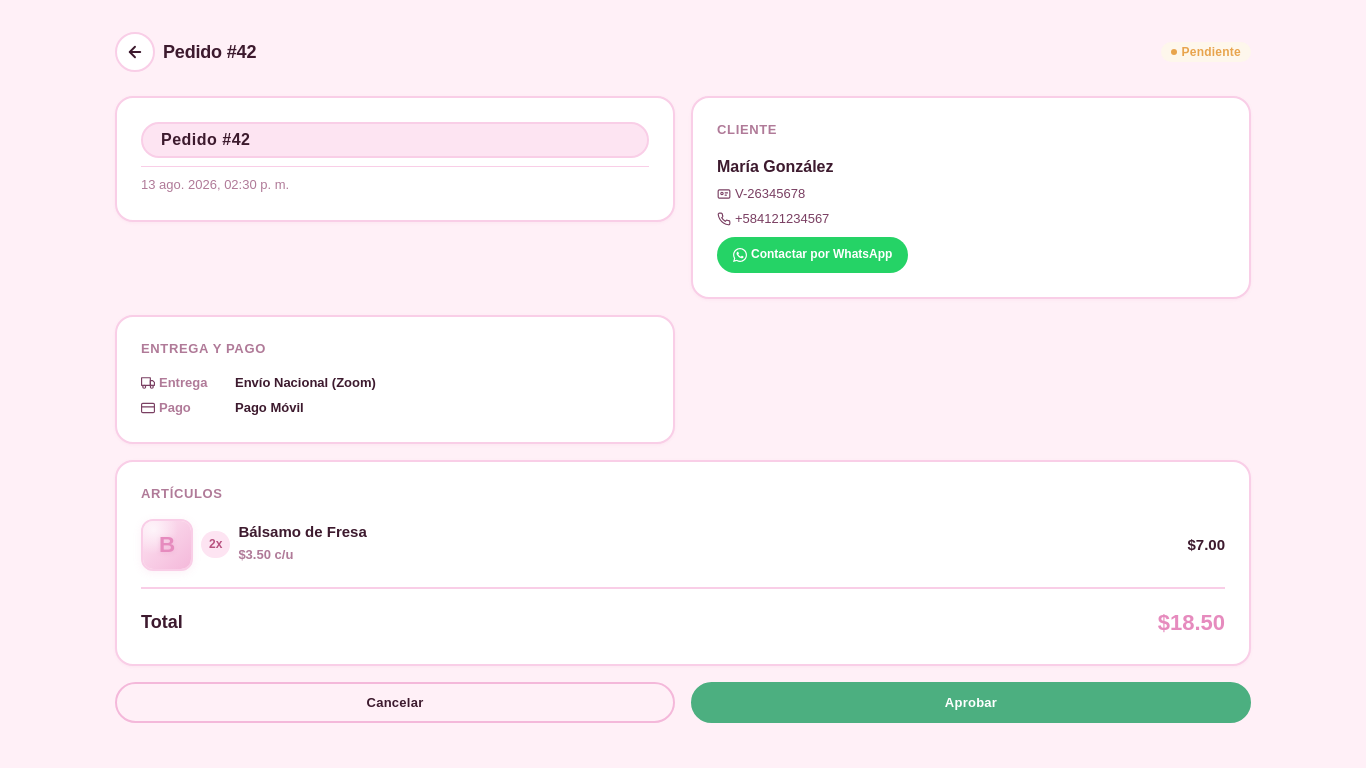
OrderDetailPage — aprobar / cancelar vía API › aprueba el pedido y actualiza el badge tras refrescar
The image size is (1366, 768).
Click the button "Aprobar": (971, 702) [691,682,1251,723]
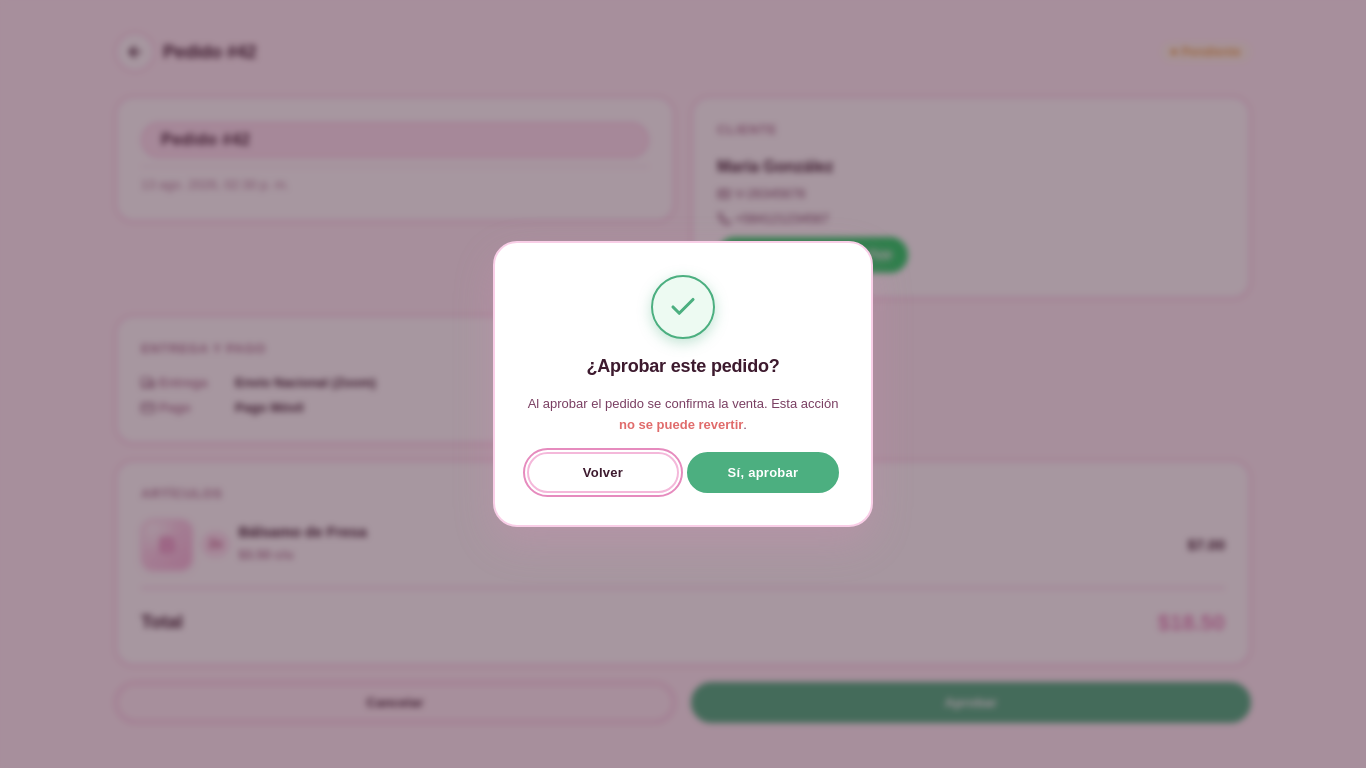
Click the button "Sí, aprobar": (763, 472) [687,452,839,492]
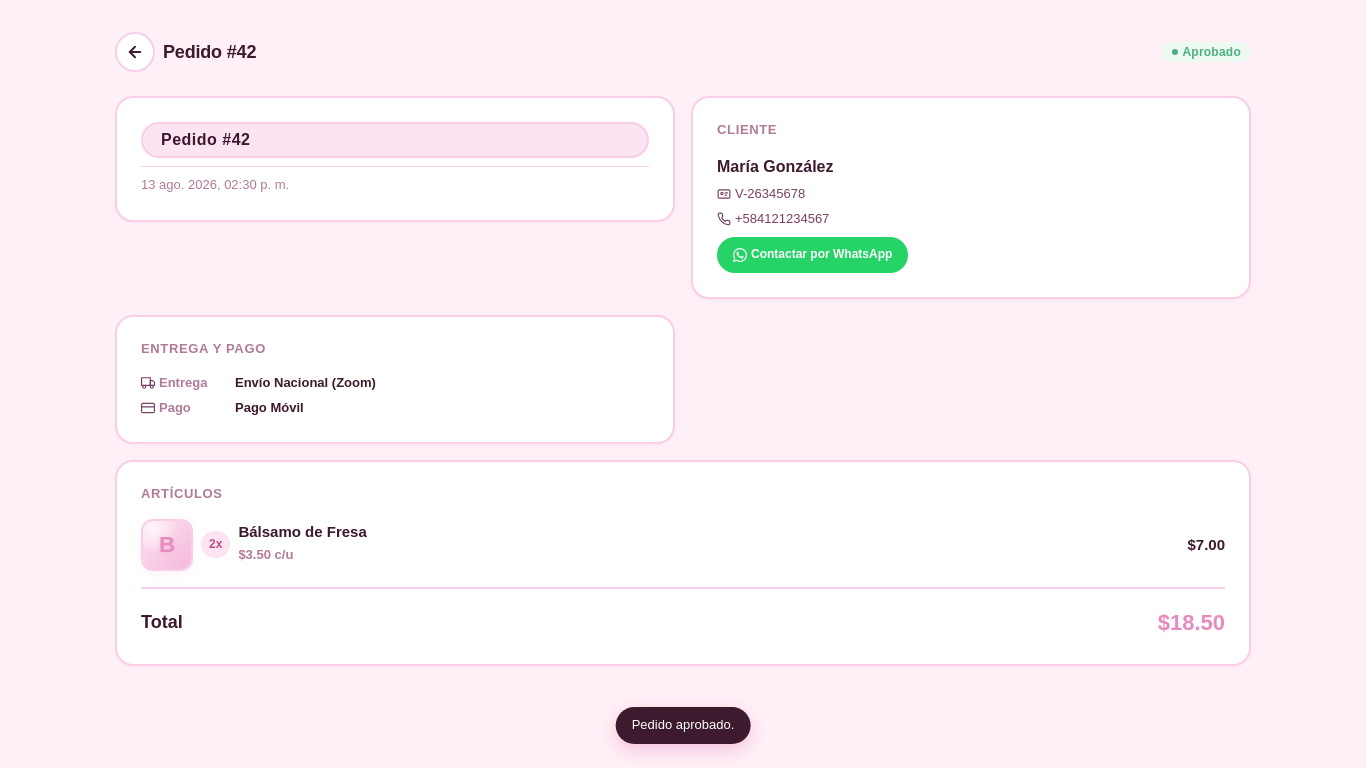
Check: the text "Aprobado" is shown, box [1162,42,1251,62]
